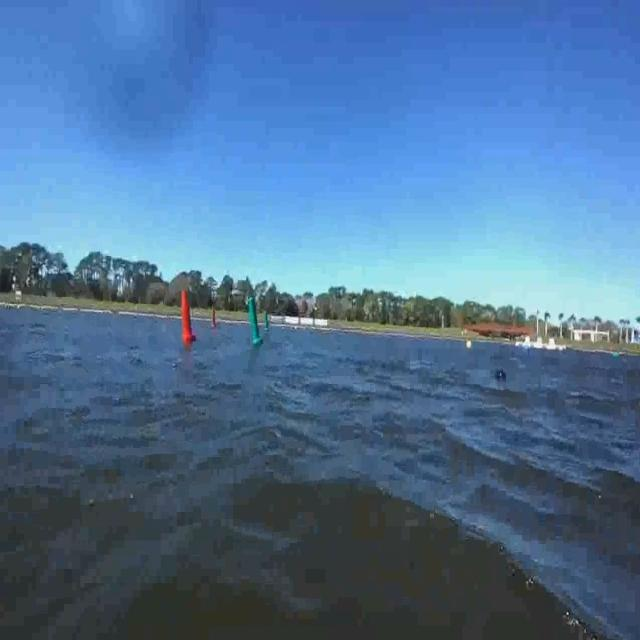black-buoy: (494, 365, 508, 384)
green-column-buoy: (246, 297, 263, 346), (266, 312, 271, 330)
red-column-buoy: (179, 289, 196, 343), (211, 307, 218, 327)
yellow-buoy: (466, 339, 472, 351)
